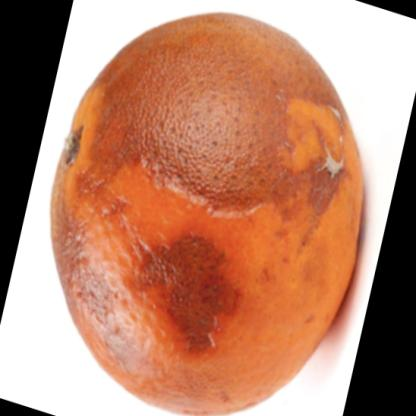rotten: (51, 13, 366, 416)
